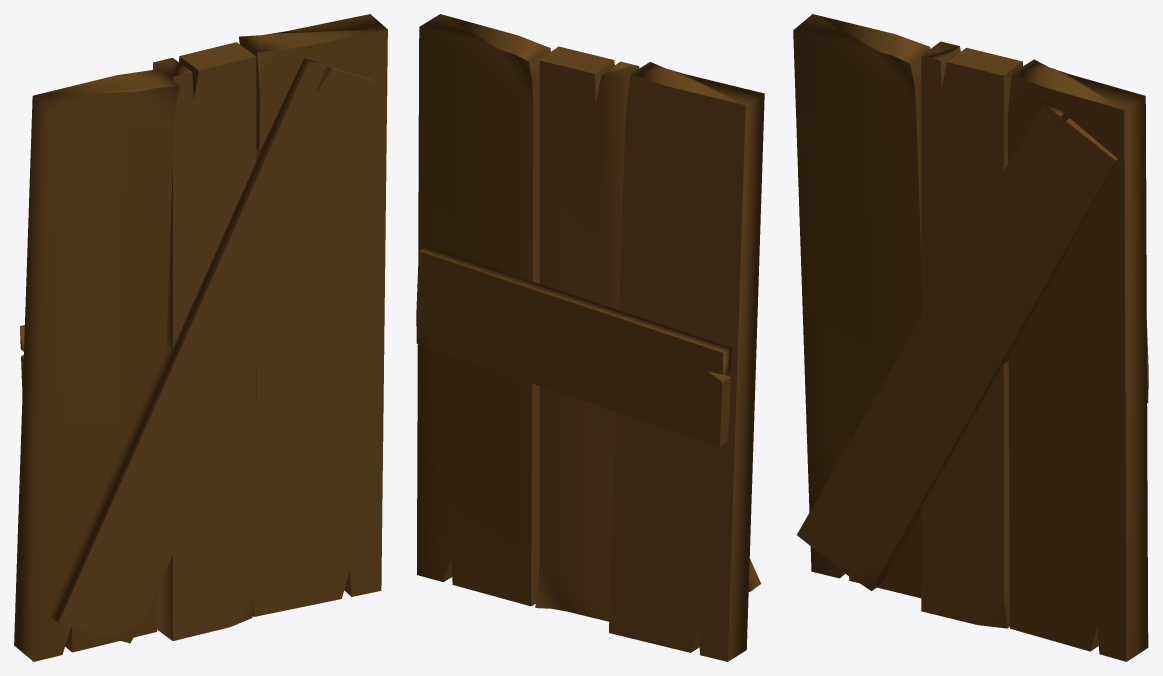
File: Door.fbx
The picture shows the model from 3 angles, left to right: view 1: azimuth 30°, elevation 25°; view 2: azimuth 150°, elevation 25°; view 3: azimuth 330°, elevation 25°; orthographic projection. The views are drawn at different scales.
Visible parts, largest first — view 1: pCube120; view 2: pCube120; view 3: pCube120.
Part boxes in pixels (box(x1,y1,x2,y2)): pCube120: box(14, 14, 387, 661); pCube120: box(416, 14, 764, 661); pCube120: box(793, 14, 1148, 661).
Bounding box in the file's own units: 4.94 × 7.89 × 1.08.
